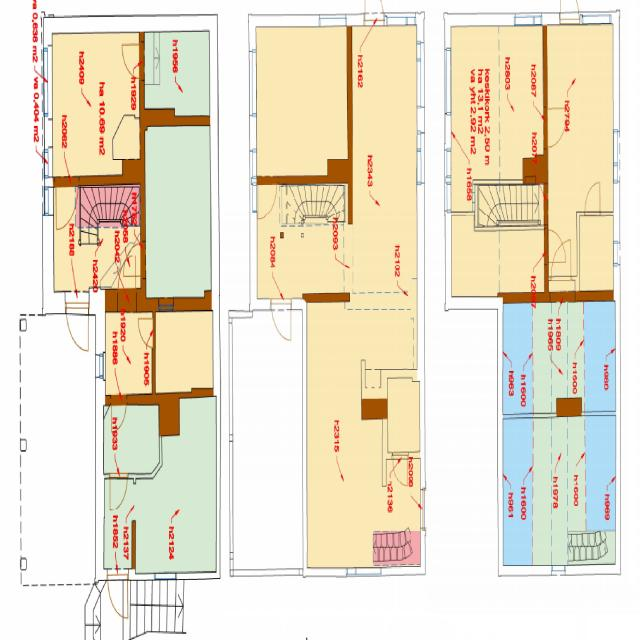door: (65, 292, 88, 358), (56, 176, 78, 228), (118, 256, 136, 312), (420, 488, 445, 528), (108, 569, 127, 618), (272, 297, 290, 348), (543, 109, 567, 147), (551, 238, 570, 282), (122, 44, 145, 79), (258, 176, 276, 220), (110, 474, 127, 512), (124, 244, 144, 276), (543, 231, 563, 262), (111, 393, 126, 433), (392, 452, 408, 488), (584, 182, 600, 216), (137, 318, 155, 348), (559, 0, 578, 26), (364, 0, 383, 25)
